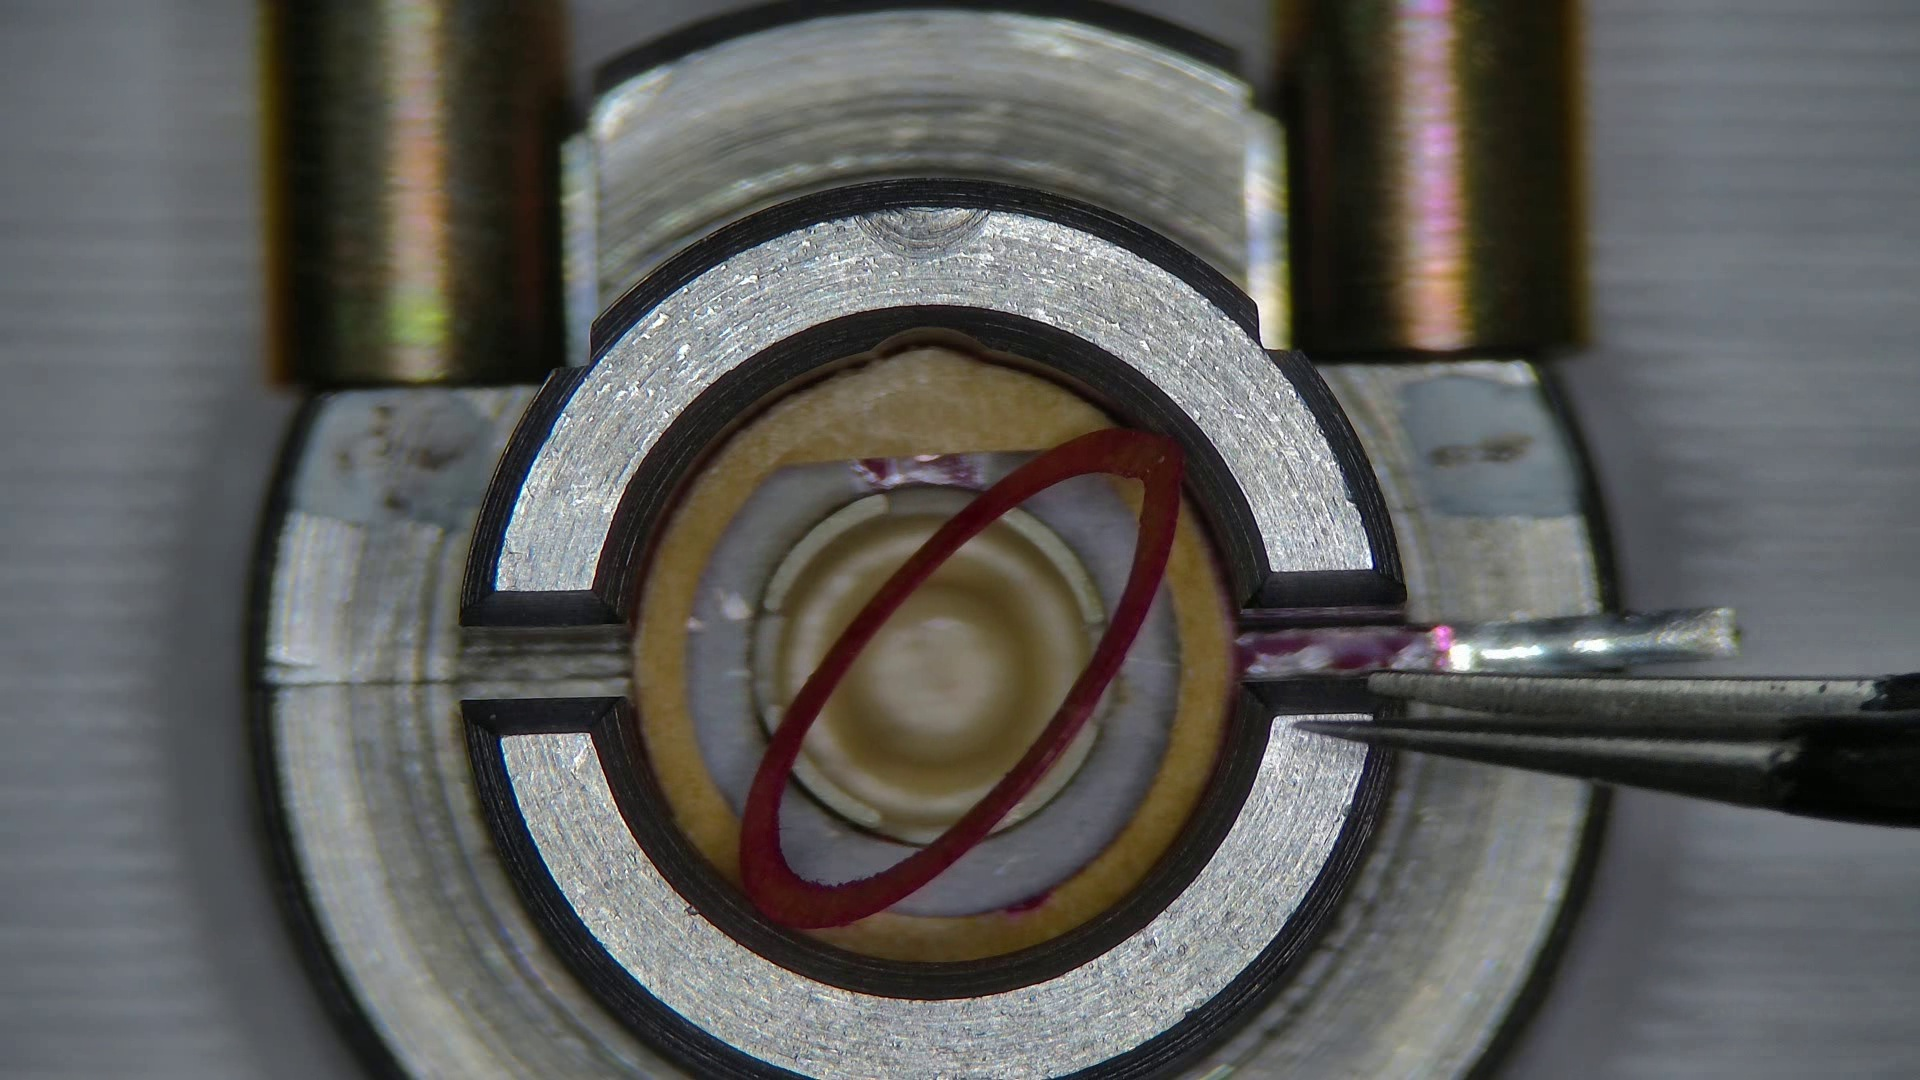GreyOring: (740, 429, 1180, 928)
YellowOring: (688, 448, 1015, 816), (899, 588, 1178, 918), (1023, 469, 1138, 624), (774, 775, 927, 885), (796, 748, 799, 765)
redOring: (637, 347, 1104, 894), (824, 491, 1232, 957), (1116, 476, 1145, 512)
